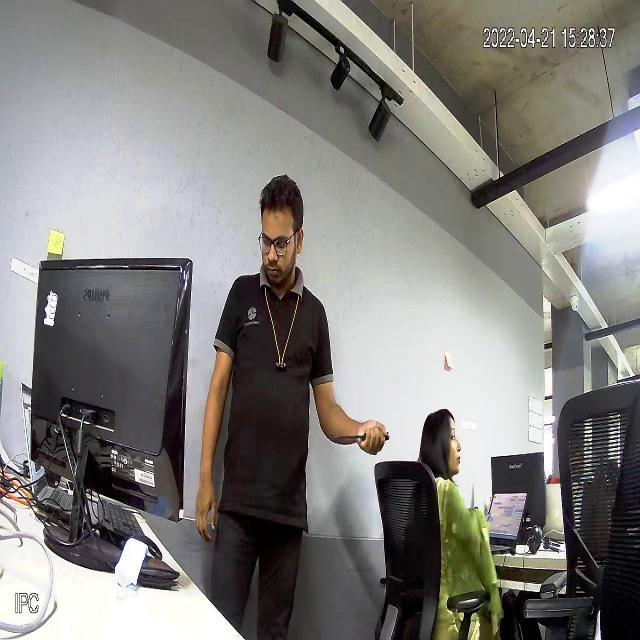Knife: (328, 423, 394, 452)
